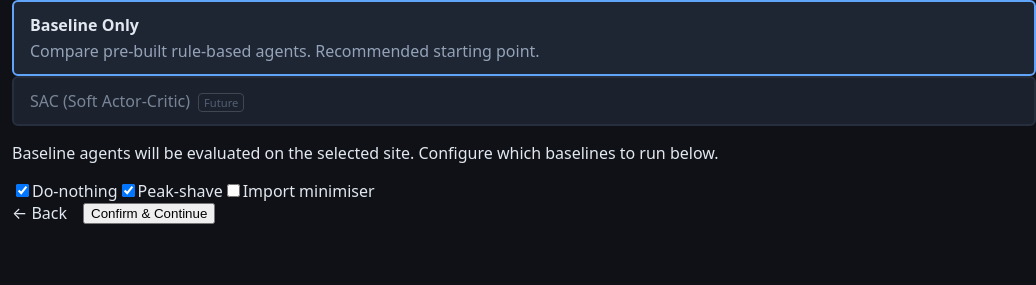
Test case: §T5 Baseline selection › [T-BASE-3] unchecking all baselines shows baseline-none-error with role=alert
Click the checkbox with test id "baseline-checkbox-do_nothing". click: [22, 190]
box: [16,184,29,197]
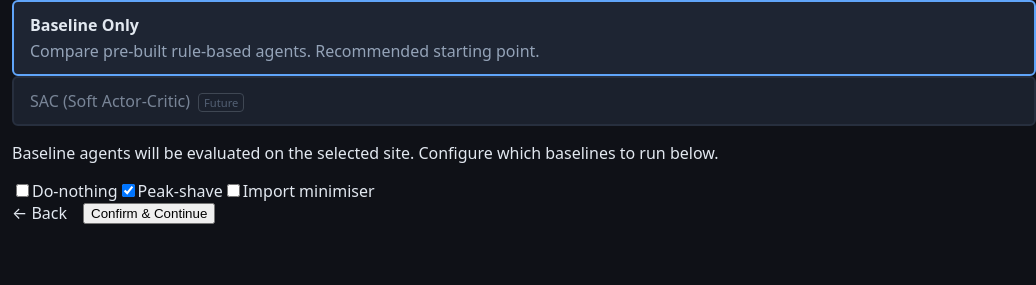
Click the checkbox with test id "baseline-checkbox-peak_shave". click: [128, 190]
box: [122,184,135,197]
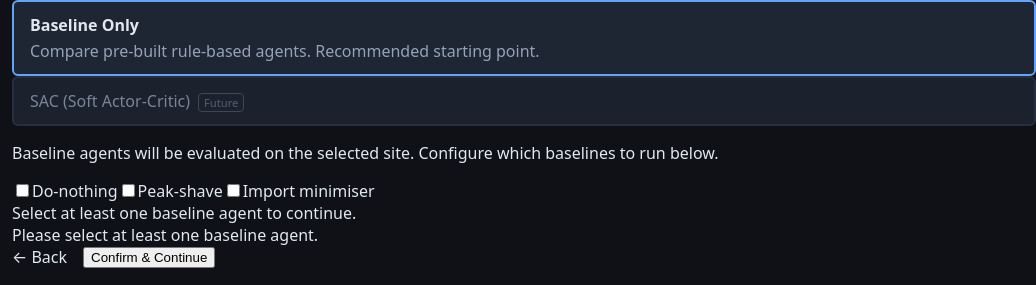
Expected: the message "Select at least one baseline agent to continue." is shown, [12,202,356,224]
